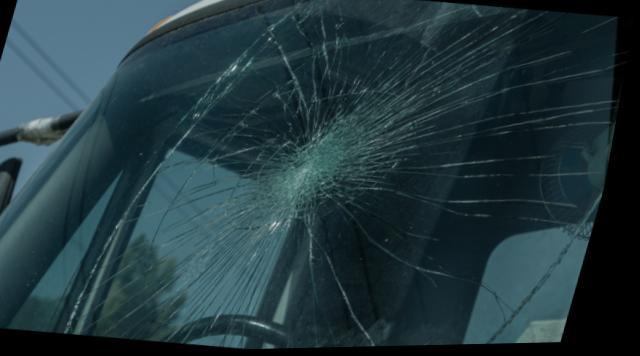glass shatter: (0, 0, 635, 351)
